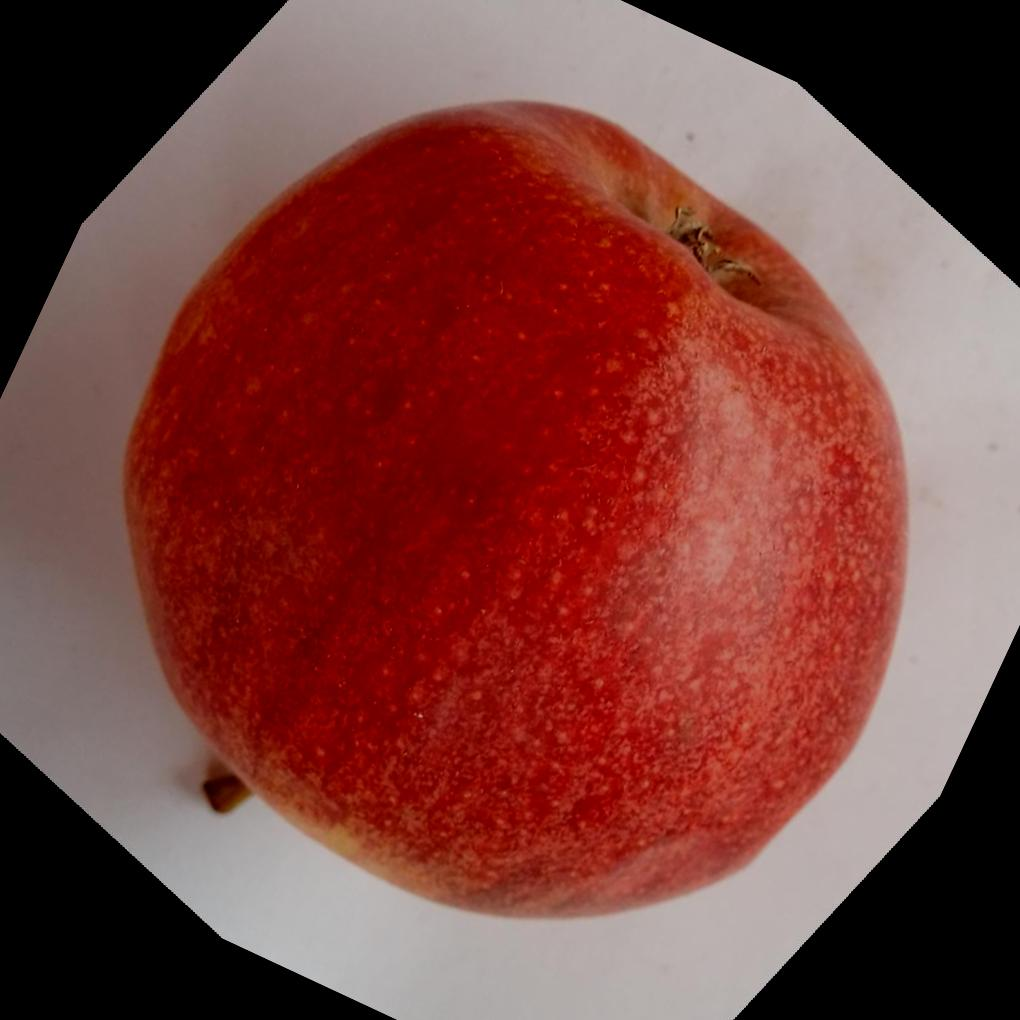FreshGuava: (121, 98, 915, 923)
